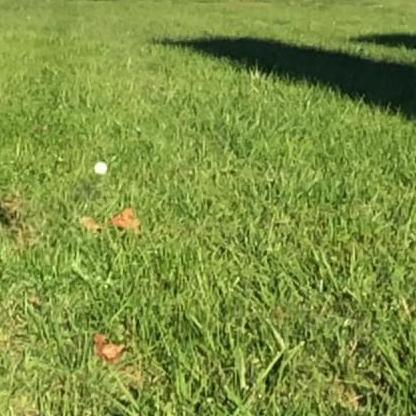golfball: (92, 157, 107, 172)
